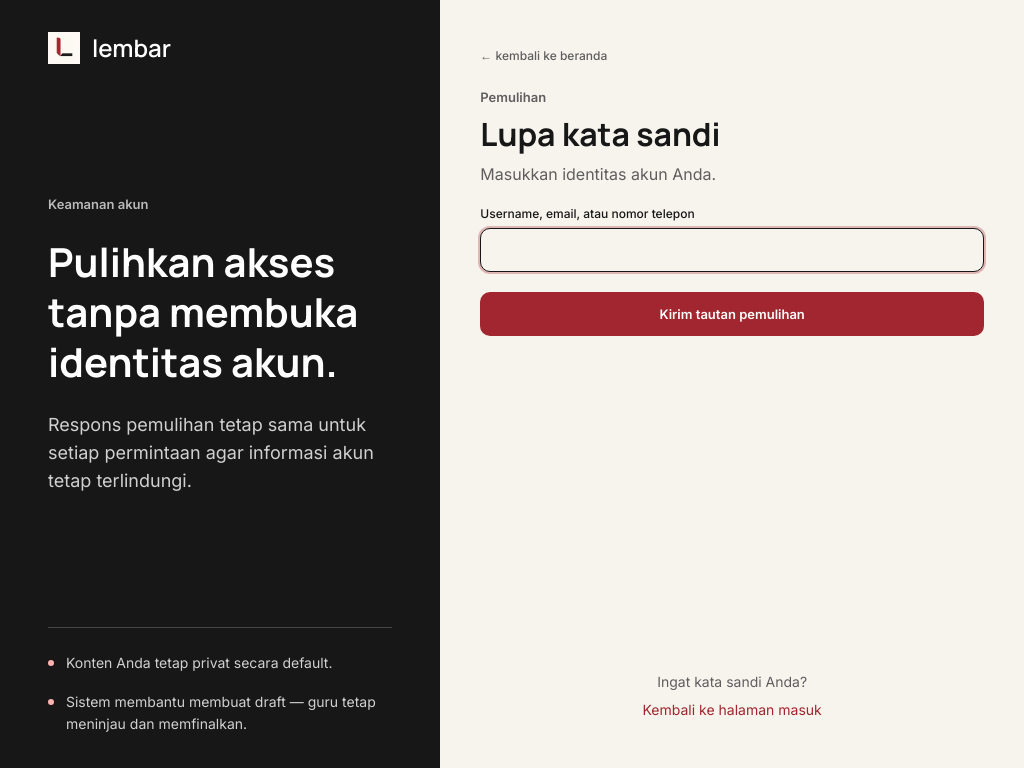
Test: auth pages render › forgot password page shows a generic notice on submit
The image size is (1024, 768).
Type "demo@example.com" into the field labelled "Username, email, atau nomor telepon". click: (732, 250)
box: [480,228,984,272]
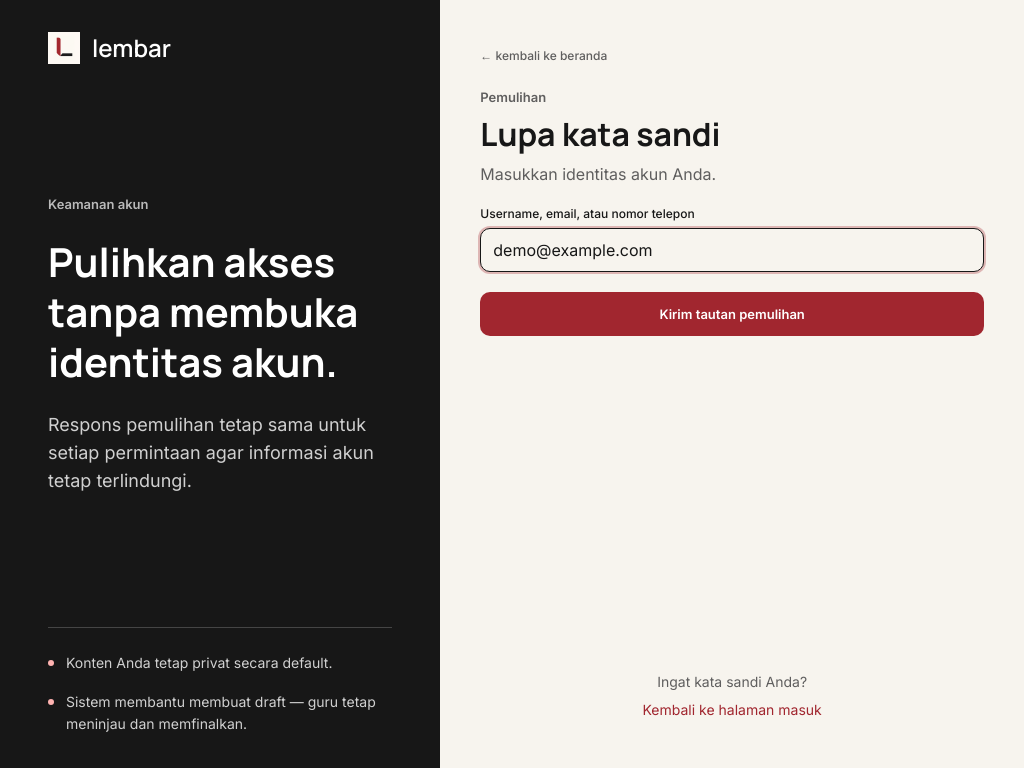
Click the button "Kirim tautan pemulihan". click: (732, 314)
box: [480,292,984,336]
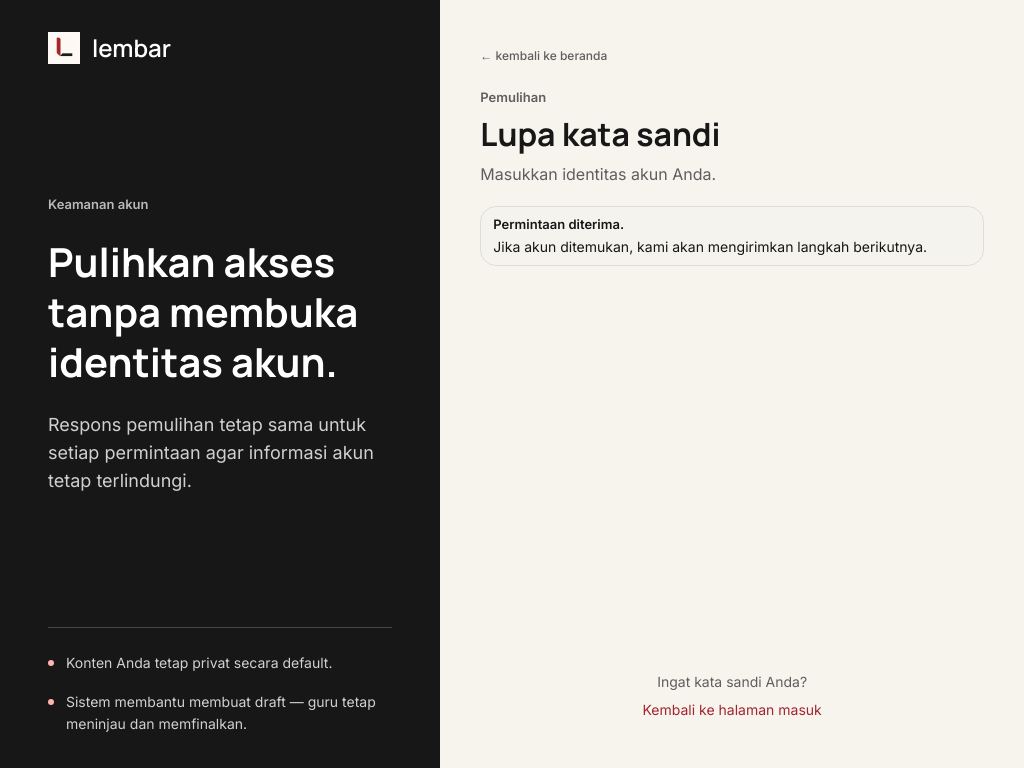
Result: the text "Permintaan diterima." is shown at [493,216,624,232]
